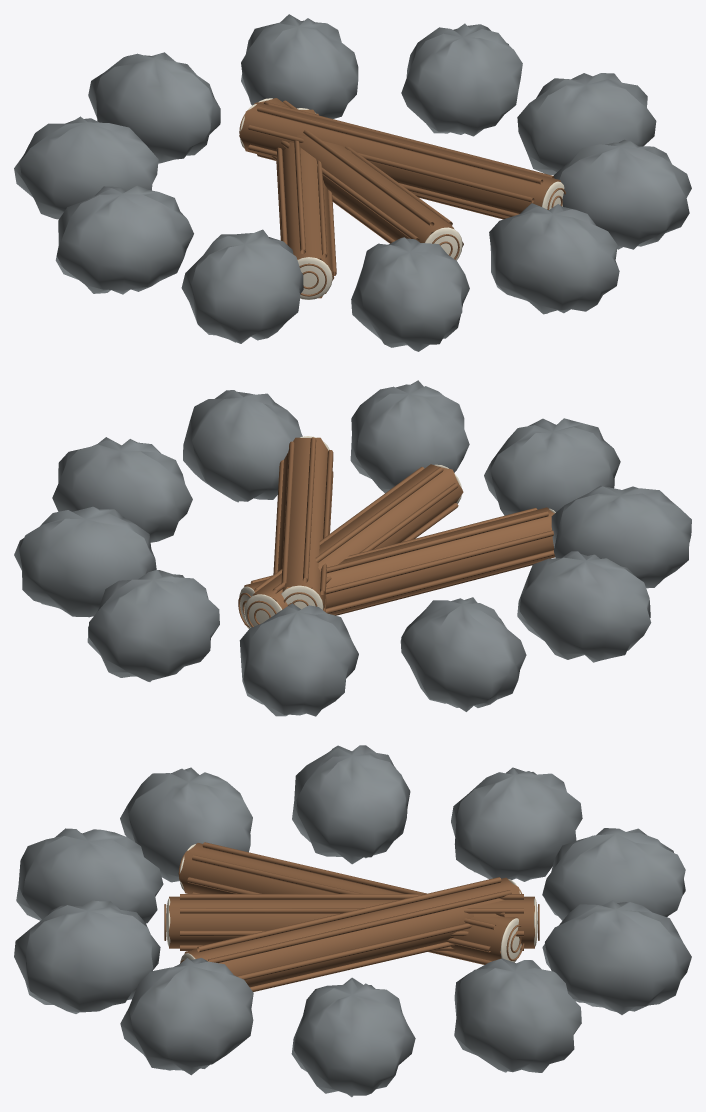
The model's file is camp.glb.
3 renders of one model, top to bottom at view 1: azimuth 30°, elevation 25°; view 2: azimuth 150°, elevation 25°; view 3: azimuth 270°, elevation 25°, orthographic. The views are drawn at different scales.
Visible parts, largest first — view 1: hearth stone, rough bark, cut end grain; view 2: hearth stone, rough bark, cut end grain; view 3: hearth stone, rough bark, cut end grain.
Part boxes in pixels (x1,y1,x2,y2): hearth stone: (14,14,691,351); rough bark: (239,98,565,298); cut end grain: (240,98,564,299); hearth stone: (14,380,691,716); rough bark: (238,437,555,627); cut end grain: (239,436,555,628); hearth stone: (14,745,691,1097); rough bark: (164,842,539,991); cut end grain: (166,844,537,962).
Size of the model in its own units: 2.17 by 0.3468 by 2.08.
